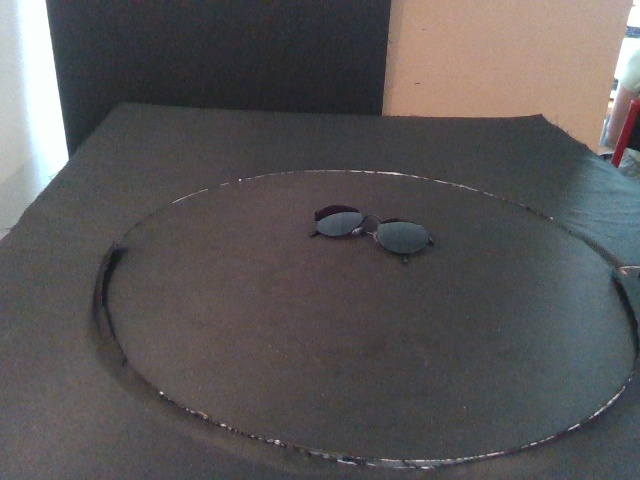glasses: (308, 203, 435, 264)
